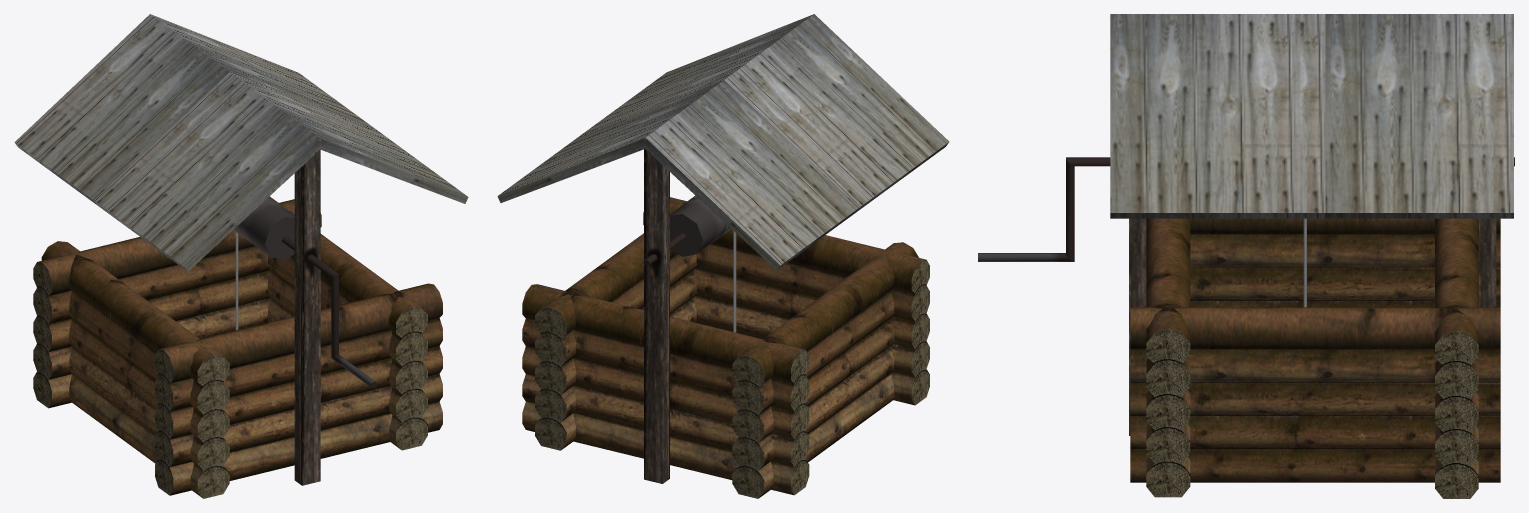
Rendered from well-low-rus-fbx.FBX.
The picture shows the model from 3 angles, left to right: view 1: azimuth 30°, elevation 25°; view 2: azimuth 150°, elevation 25°; view 3: azimuth 270°, elevation 25°; orthographic projection. The views are drawn at different scales.
Parts seen in each view (by area): view 1: kolodec_01; view 2: kolodec_01; view 3: kolodec_01.
Boxes of the visible parts, x1=… form: kolodec_01: x1=14, y1=14, x2=468, y2=498; kolodec_01: x1=497, y1=14, x2=949, y2=498; kolodec_01: x1=978, y1=14, x2=1514, y2=498.
Bounding box in the file's own units: 203 × 279 × 239.
